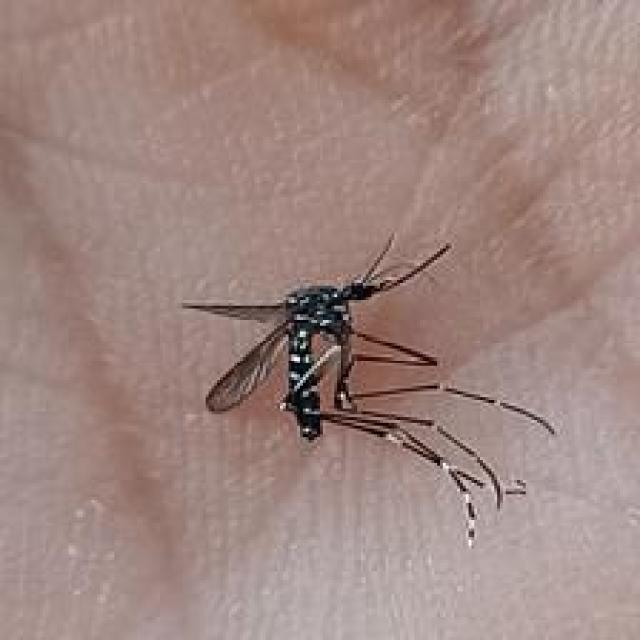Aedes albopictus: (180, 230, 557, 550)
